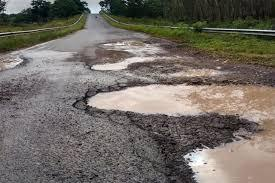Pothole: (73, 80, 275, 183), (81, 28, 249, 76), (0, 46, 40, 74)
